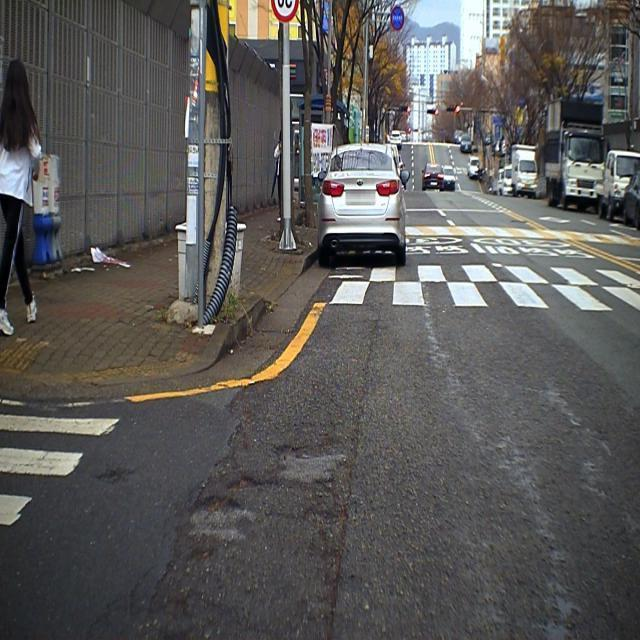pothole: (221, 435, 357, 496), (179, 489, 264, 562)
